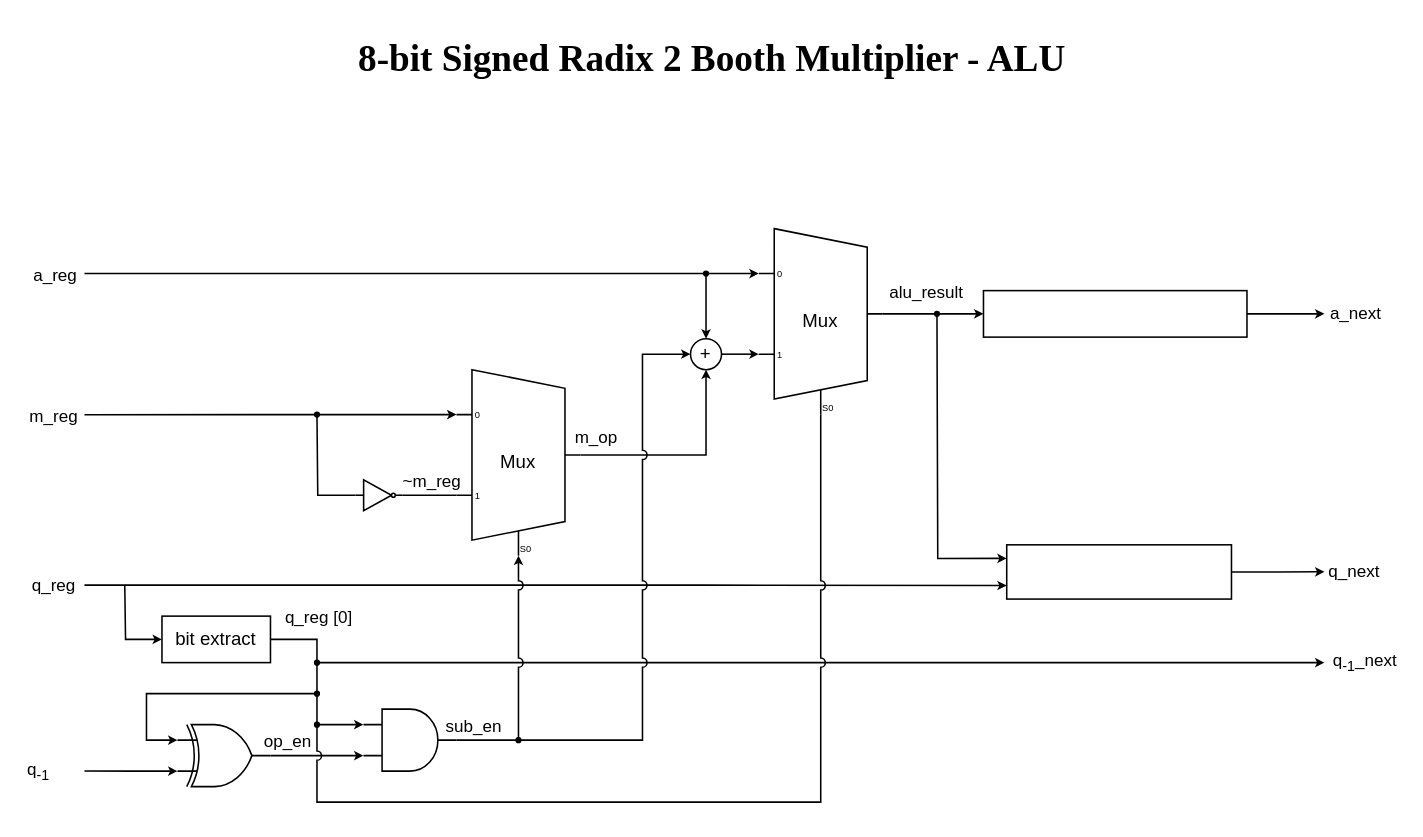
This 1423x837 diagram has some shape labels left out. Each missing label, with the centre of its shape:
"{alu_result [7], alu_result [7:1] }" goes at (1114,313).
"{alu_result[0], q_reg[7:1]}" goes at (1118,571).
